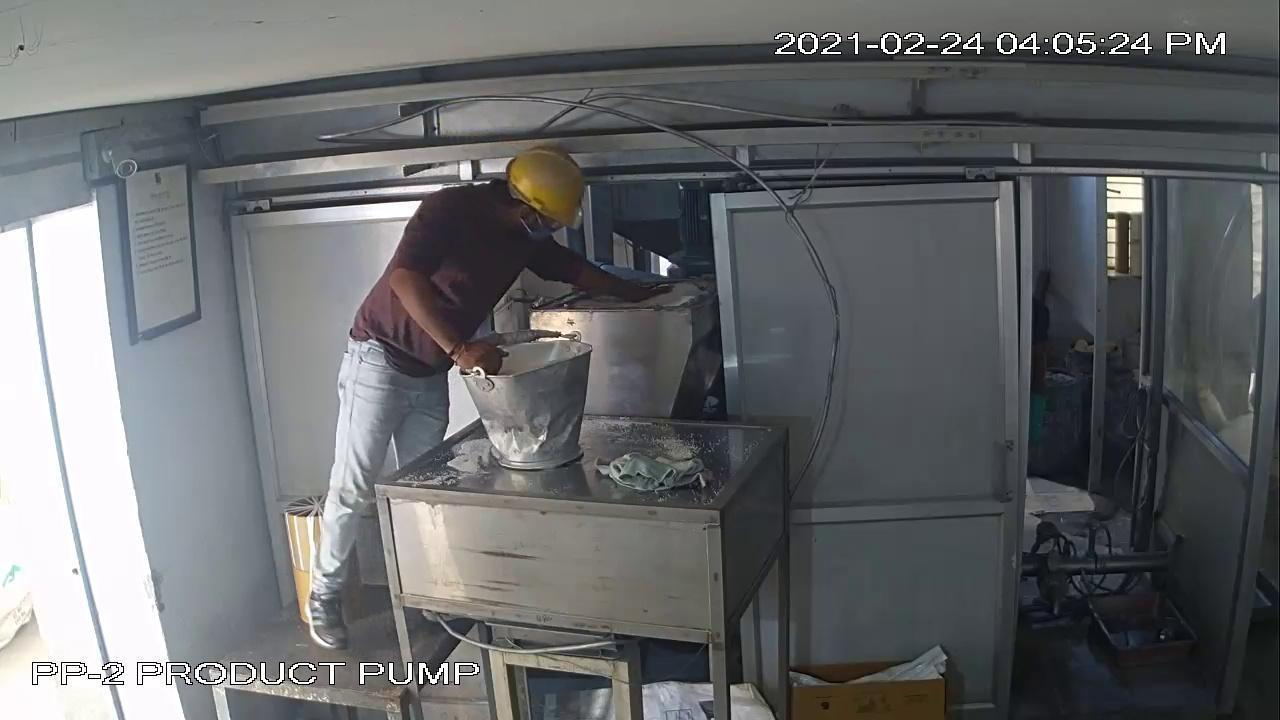helmet: (500, 140, 591, 234)
